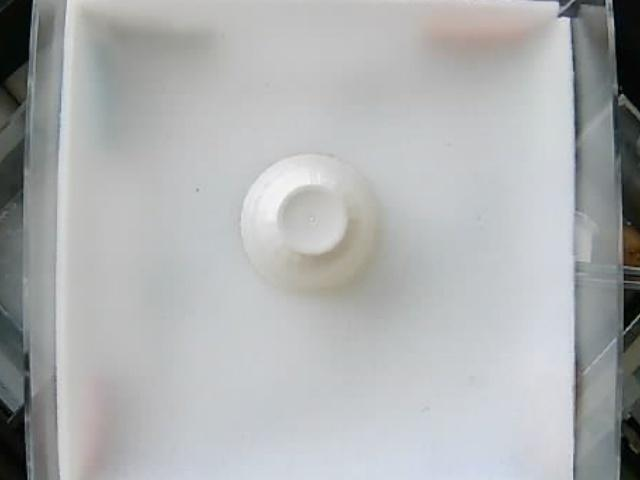Cup: (241, 153, 378, 290)
